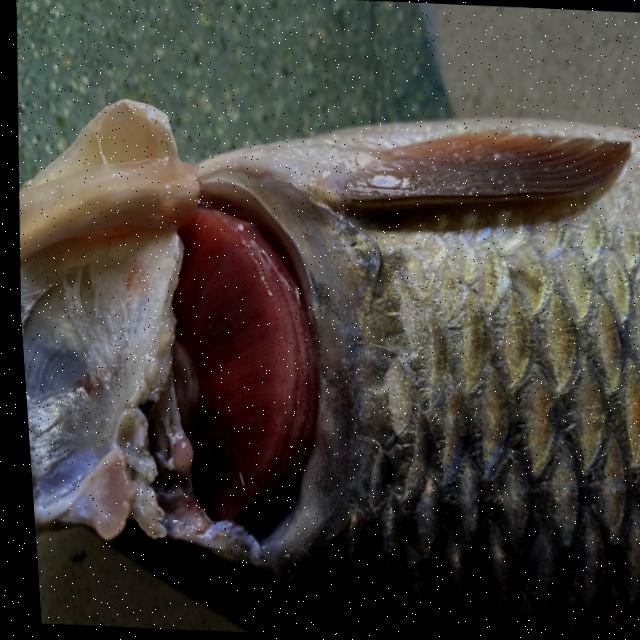Fresh: (110, 173, 349, 561)
